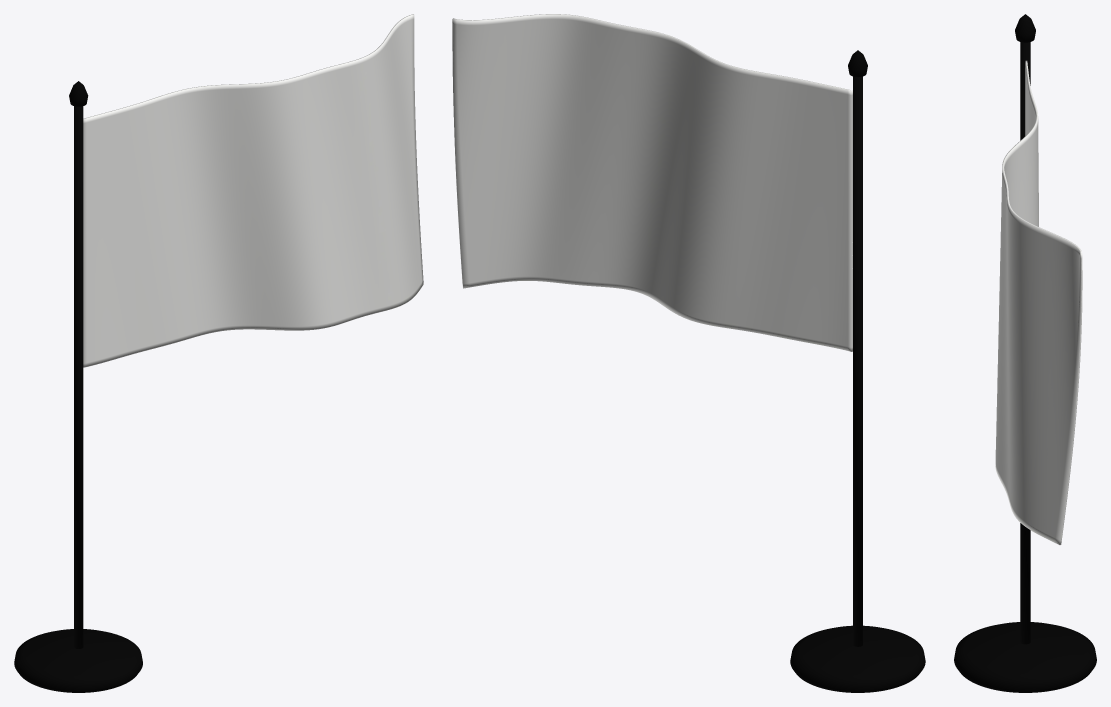
The model's file is flag.glb.
The picture shows the model from 3 angles, left to right: view 1: azimuth 30°, elevation 25°; view 2: azimuth 150°, elevation 25°; view 3: azimuth 270°, elevation 25°; orthographic projection. The views are drawn at different scales.
Visible parts, largest first — view 1: cloth, base, pole; view 2: cloth, base, pole; view 3: cloth, base, pole, finial.
Part boxes in pixels (left/top/right/bottom): cloth: left=83, top=14, right=423, bottom=367; base: left=14, top=629, right=142, bottom=692; pole: left=74, top=106, right=83, bottom=648; cloth: left=452, top=14, right=852, bottom=351; base: left=790, top=625, right=925, bottom=692; pole: left=853, top=76, right=862, bottom=646; cloth: left=995, top=60, right=1082, bottom=544; base: left=954, top=622, right=1096, bottom=692; pole: left=1020, top=42, right=1030, bottom=644; finial: left=1015, top=14, right=1035, bottom=42.
Bounding box in the file's own units: 0.351 × 0.472 × 0.094.
Materials: 5 (5 with a texture image).
